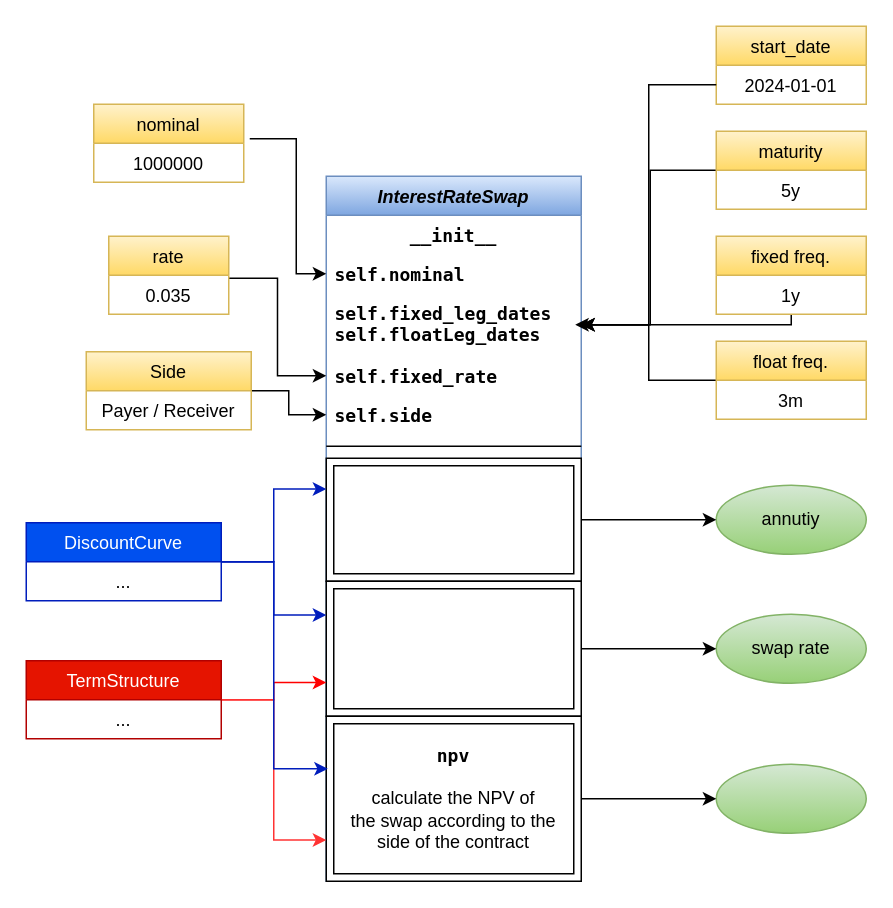
This 893x908 diagram has some shape labels left out. Each missing label, with the centre of its shape:
annuity calculate the annuity as of the fixed leg: (x=453, y=519)
NPV: (x=790, y=798)
swap_rate calculate the IRS swap rate: (x=453, y=648)
